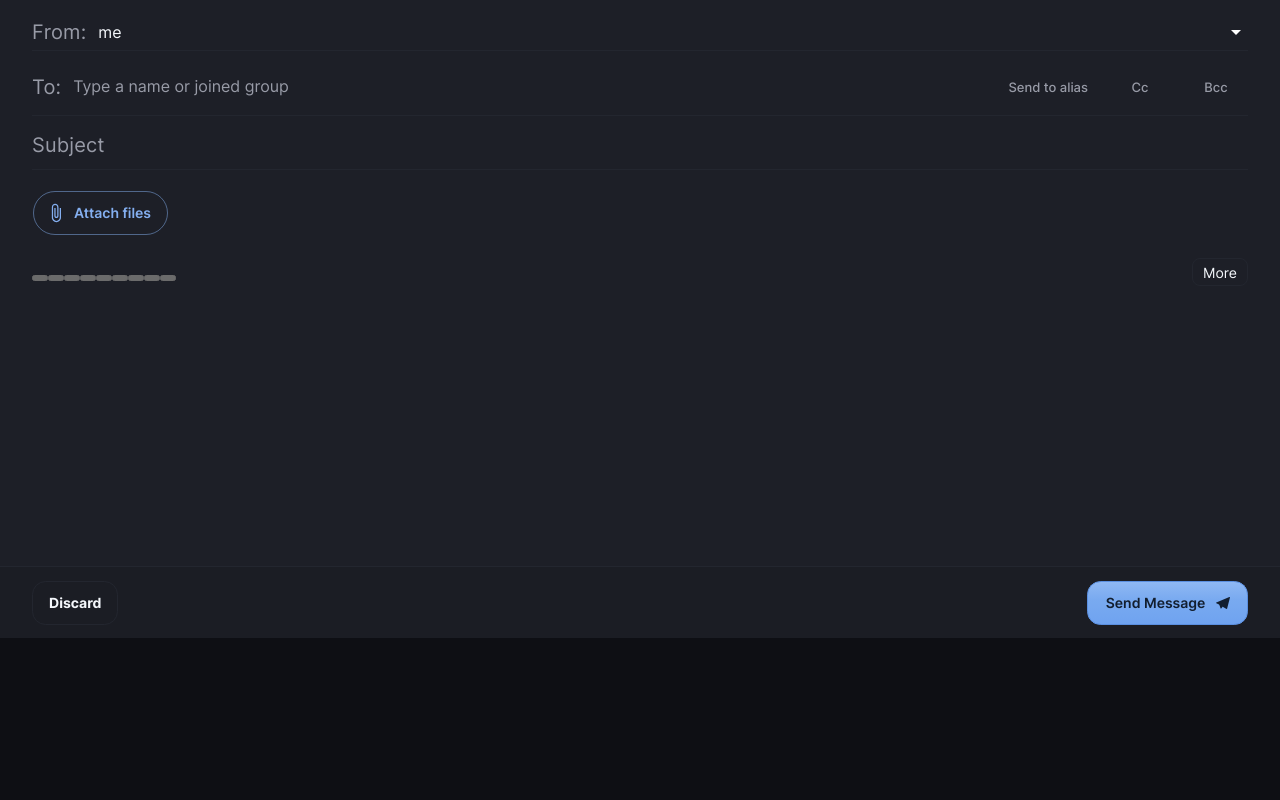
Scenario: Compose From: avatars › shows the avatar of a name that has one, in the menu and in the closed field
Press the mouse on the dropdown named "From" at point(110, 32), box [98, 22, 122, 42]
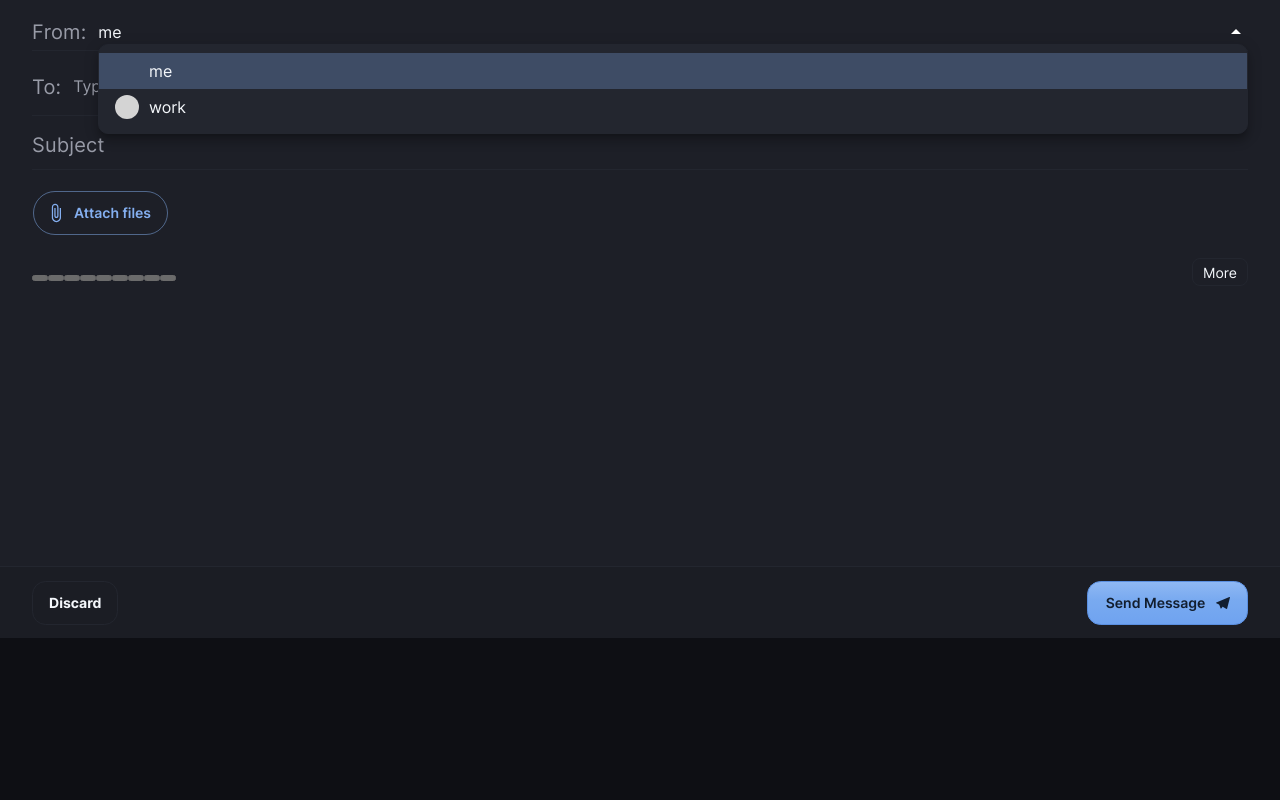
Check: the option "me" is shown, box [99, 53, 1247, 89]
Click the option "work".
click(150, 107)  # box [115, 95, 186, 119]
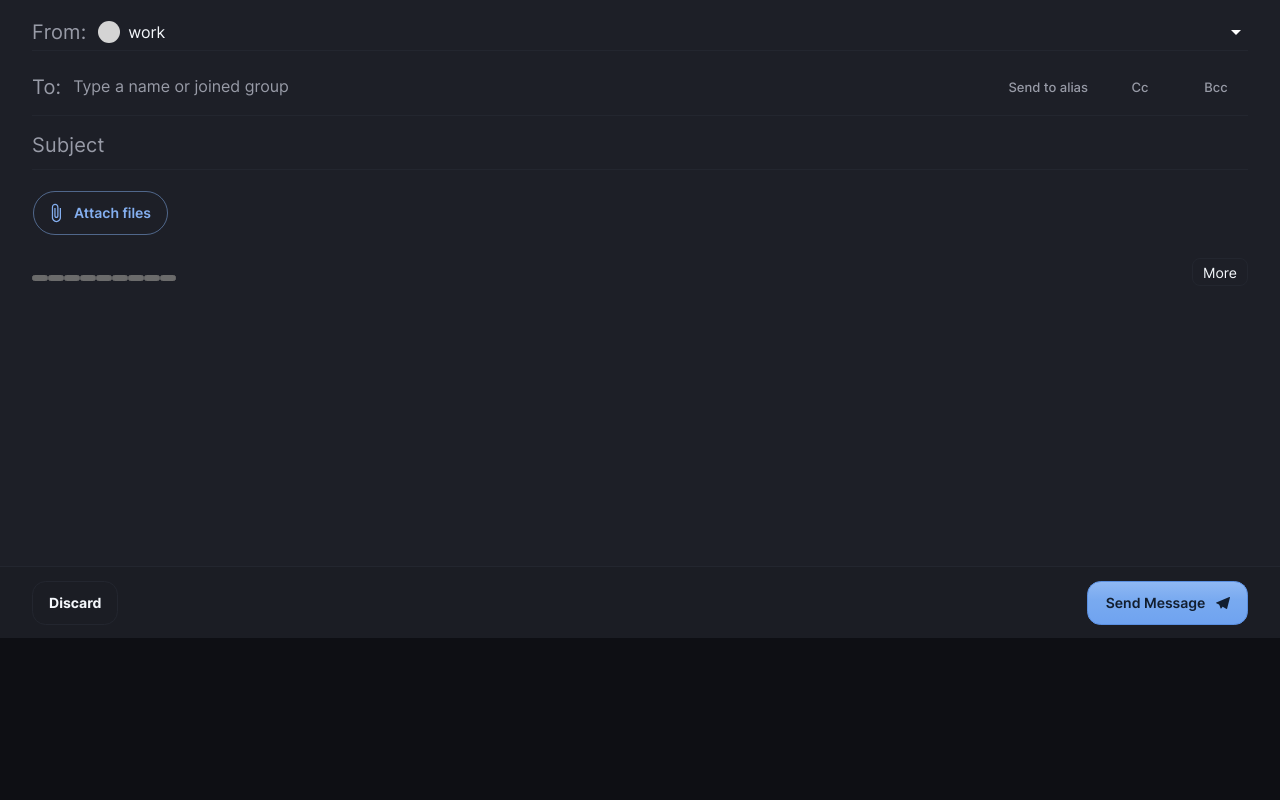
Check: the dropdown named "From" reads "work", box [98, 21, 165, 43]
